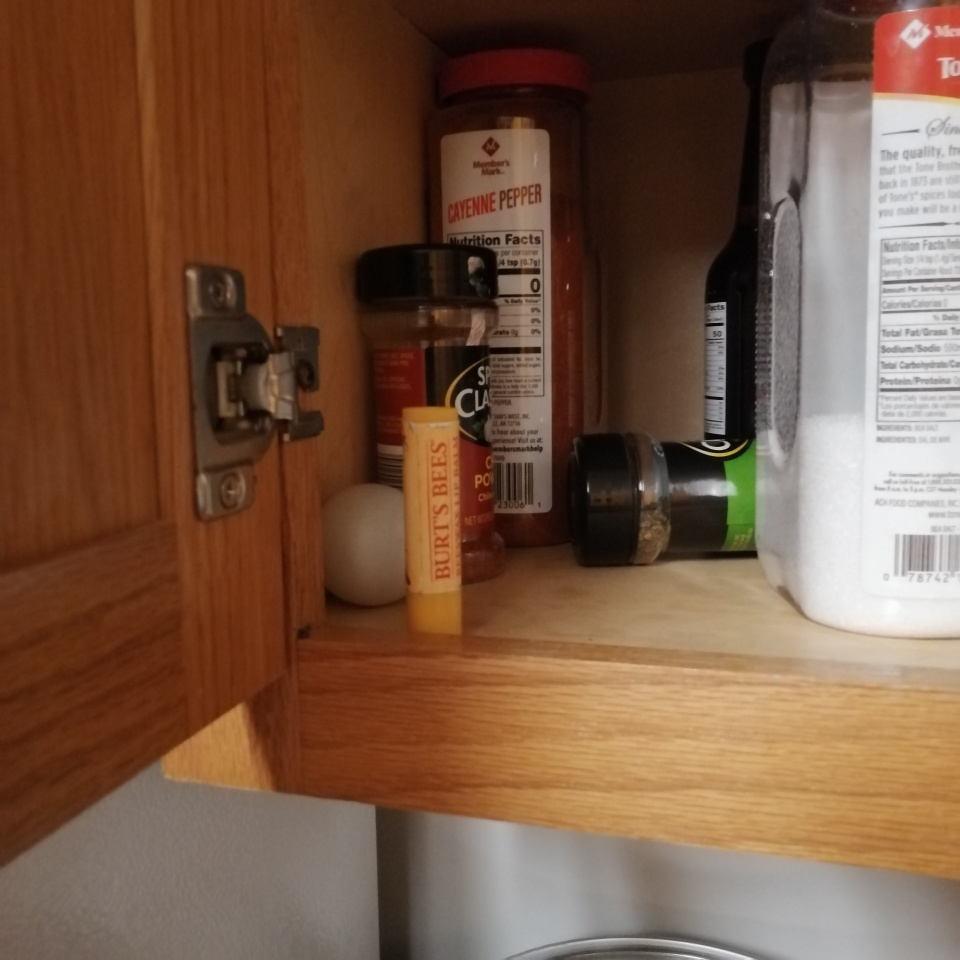chapstick: (401, 404, 464, 636)
